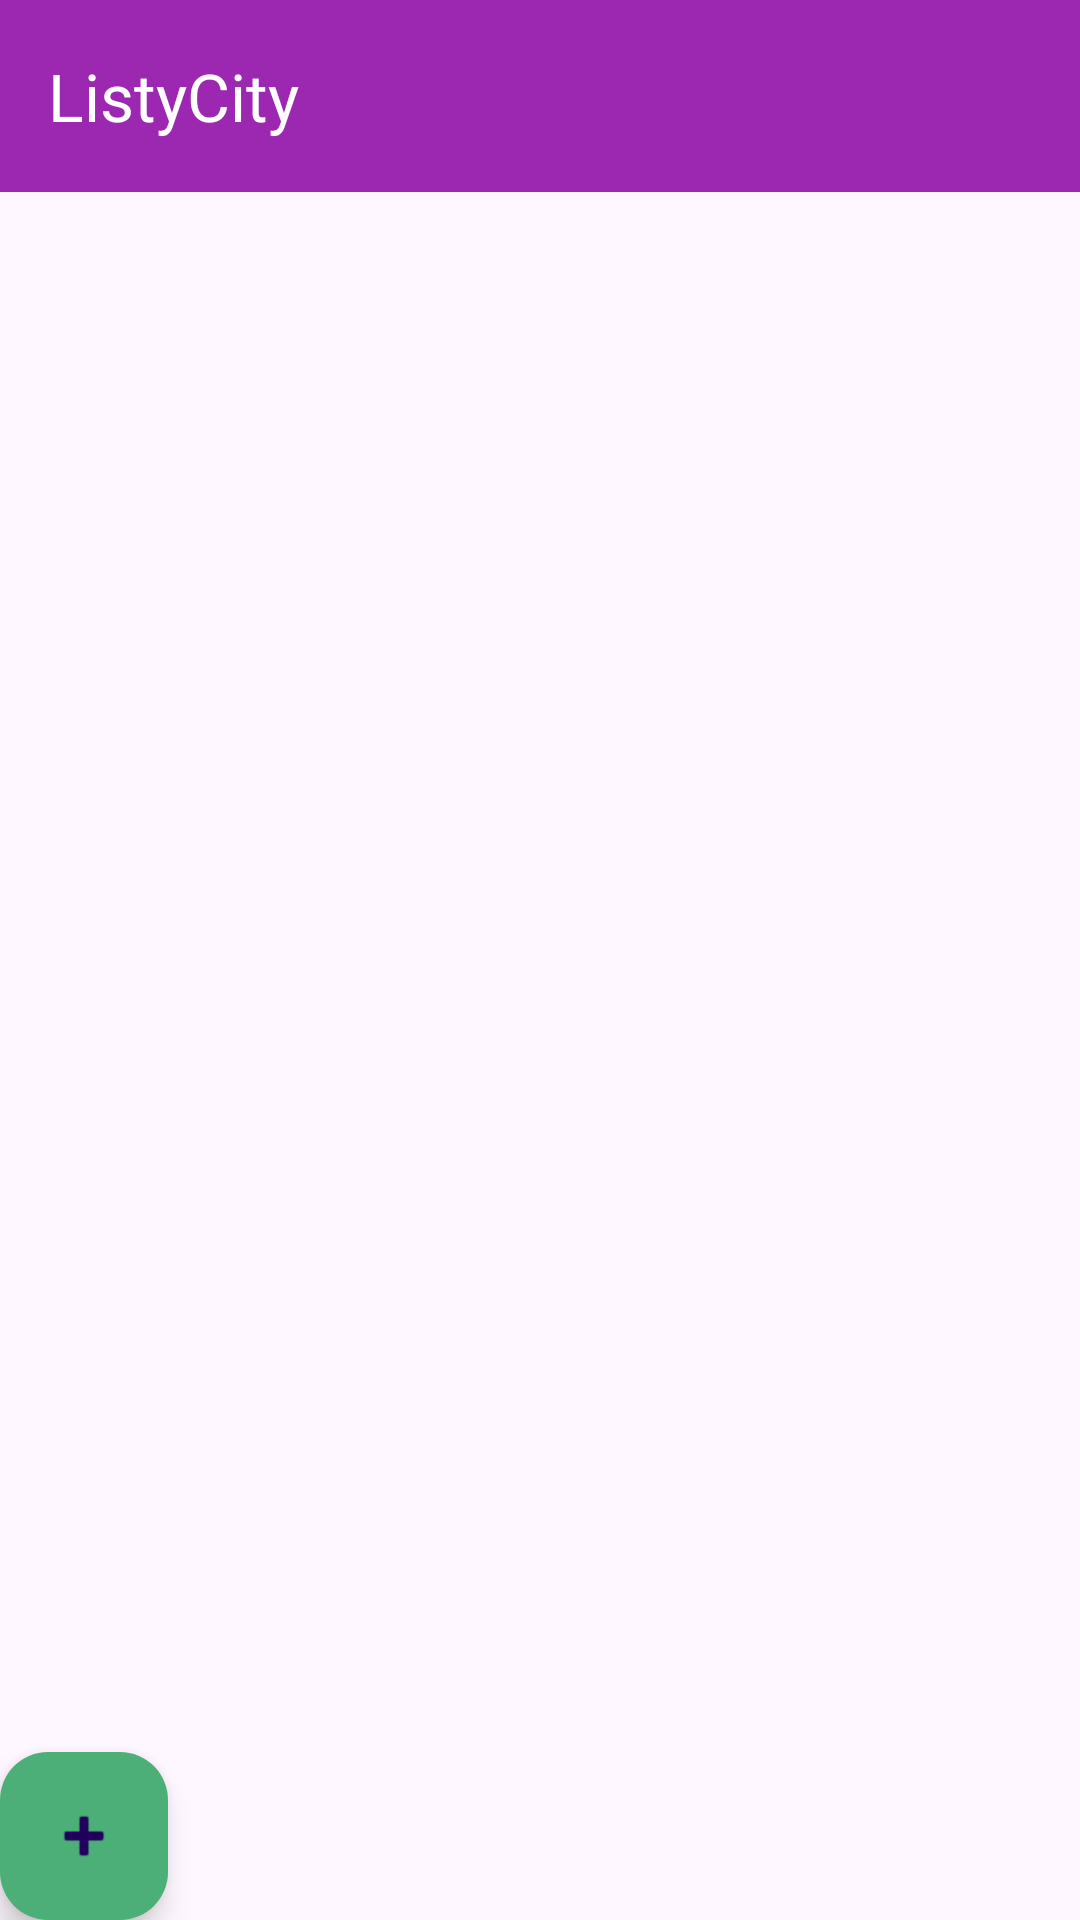

Locate icon controls on the screen. Image size 1080px x 1920px, boxes as [left=x1, top=y1, right=x2, bottom=y2].
add: [left=0, top=1752, right=168, bottom=1920]
